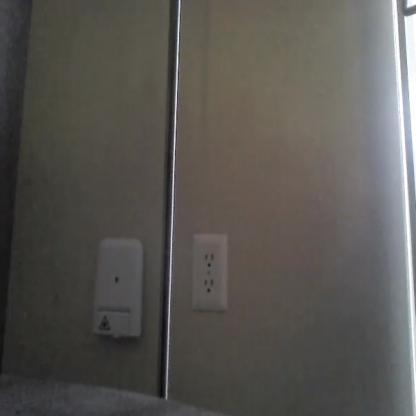OUTLET: (192, 234, 228, 312)
